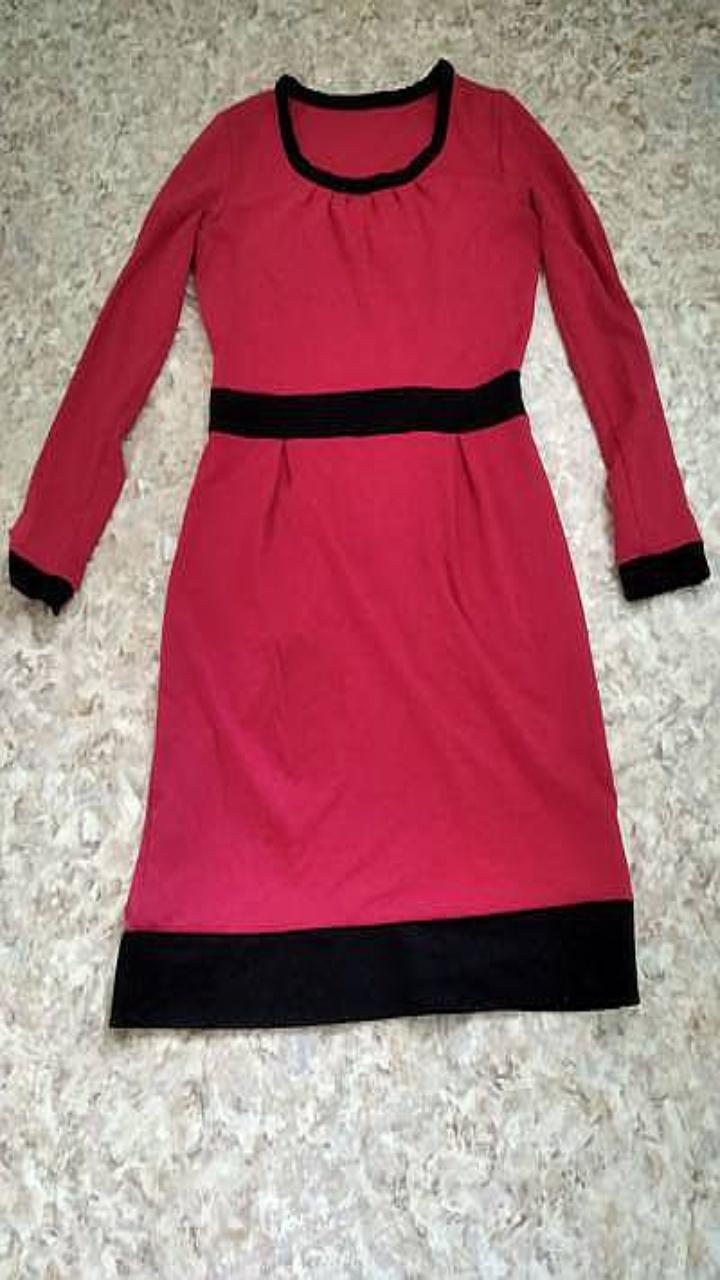Dresses: (9, 58, 708, 1026)
